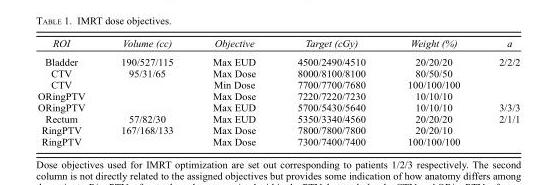table: (37, 36, 519, 146)
table column: (275, 36, 385, 146), (385, 36, 478, 146), (102, 36, 192, 146), (192, 36, 275, 146), (37, 36, 102, 146), (478, 36, 519, 146)
table column header: (37, 36, 519, 51)
table row: (37, 51, 519, 67), (37, 36, 519, 51), (37, 89, 519, 101), (37, 123, 519, 135), (37, 67, 519, 78), (37, 78, 519, 89), (37, 101, 519, 112), (37, 112, 519, 123), (37, 135, 519, 146)
